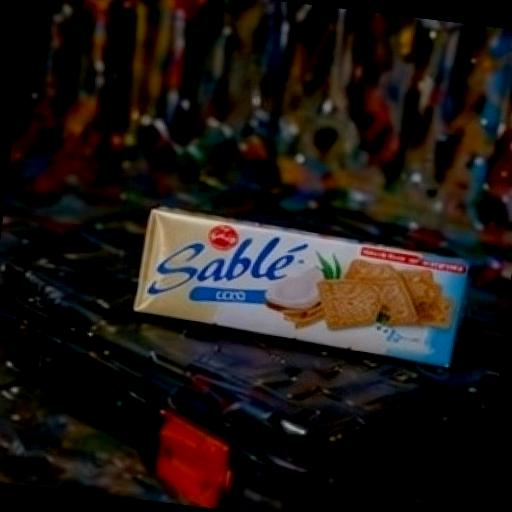sable: (89, 138, 512, 451)
